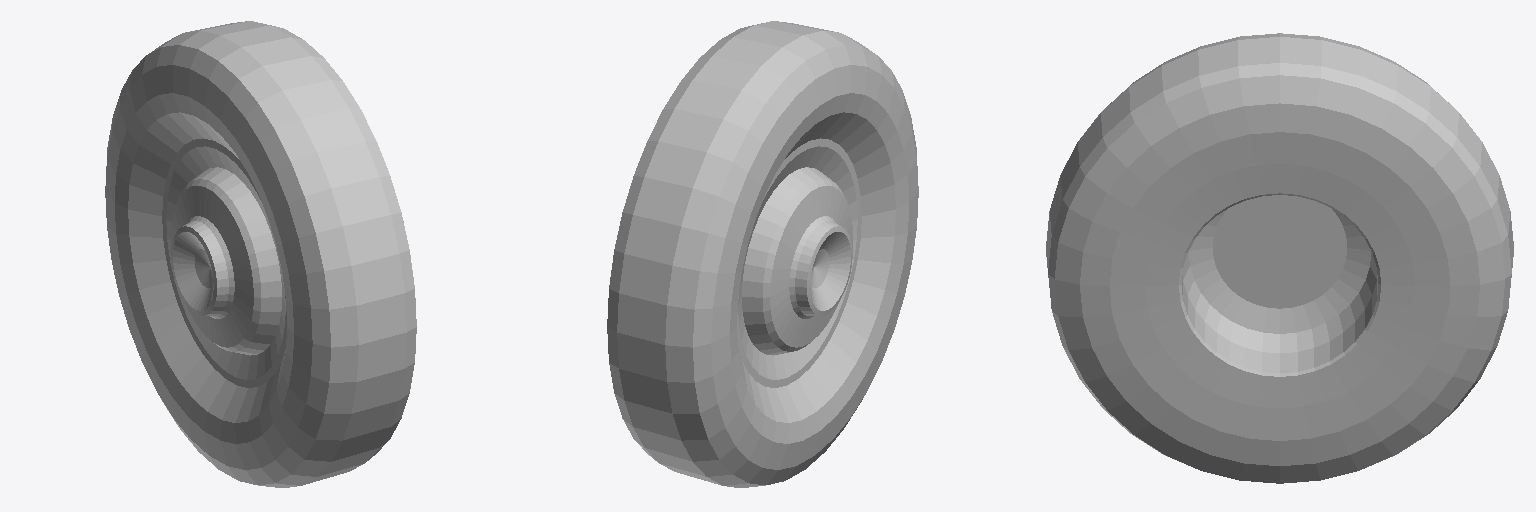
Rendered from carwheel.obj.
The picture shows the model from 3 angles: view 1: azimuth 30°, elevation 25°; view 2: azimuth 150°, elevation 25°; view 3: azimuth 270°, elevation 25°; orthographic projection.
Parts seen in each view (by area): view 1: LowTire; view 2: LowTire; view 3: LowTire.
Boxes of the visible parts, <box> form: LowTire: <box>105,21,416,487</box>; LowTire: <box>607,21,918,487</box>; LowTire: <box>1046,33,1513,483</box>.
Size of the model in its own units: 0.4221 by 1.37 by 1.37.